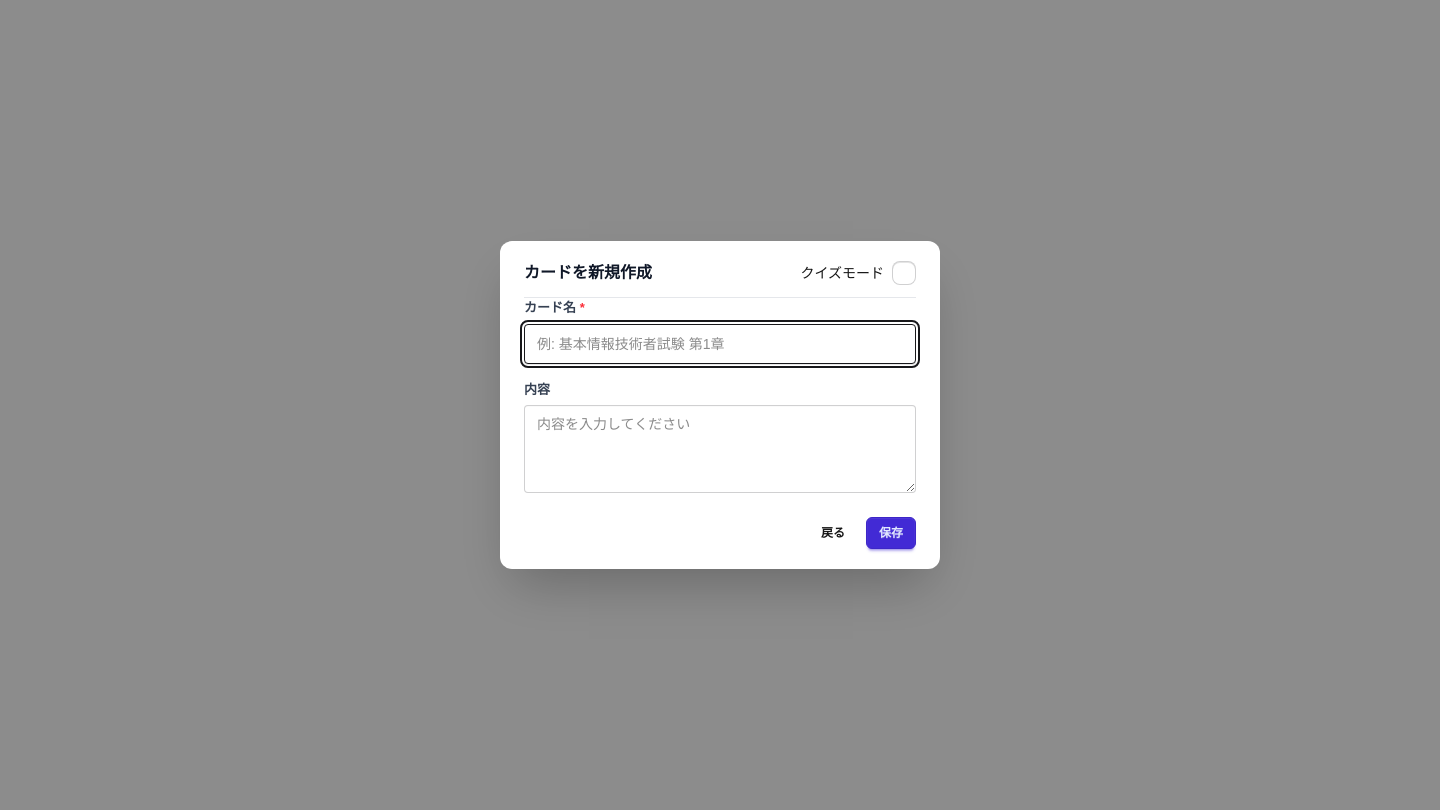
CardCreateModal › クイズモードにチェックを入れると Q/A フィールドが現れ content は消える
This screenshot has width=1440, height=810.
Note: チェックボックスをクリック
What coordinates should you click on to do the following:
click the checkbox
I would click on:
 (904, 273)
Its box is [892,261,916,285].
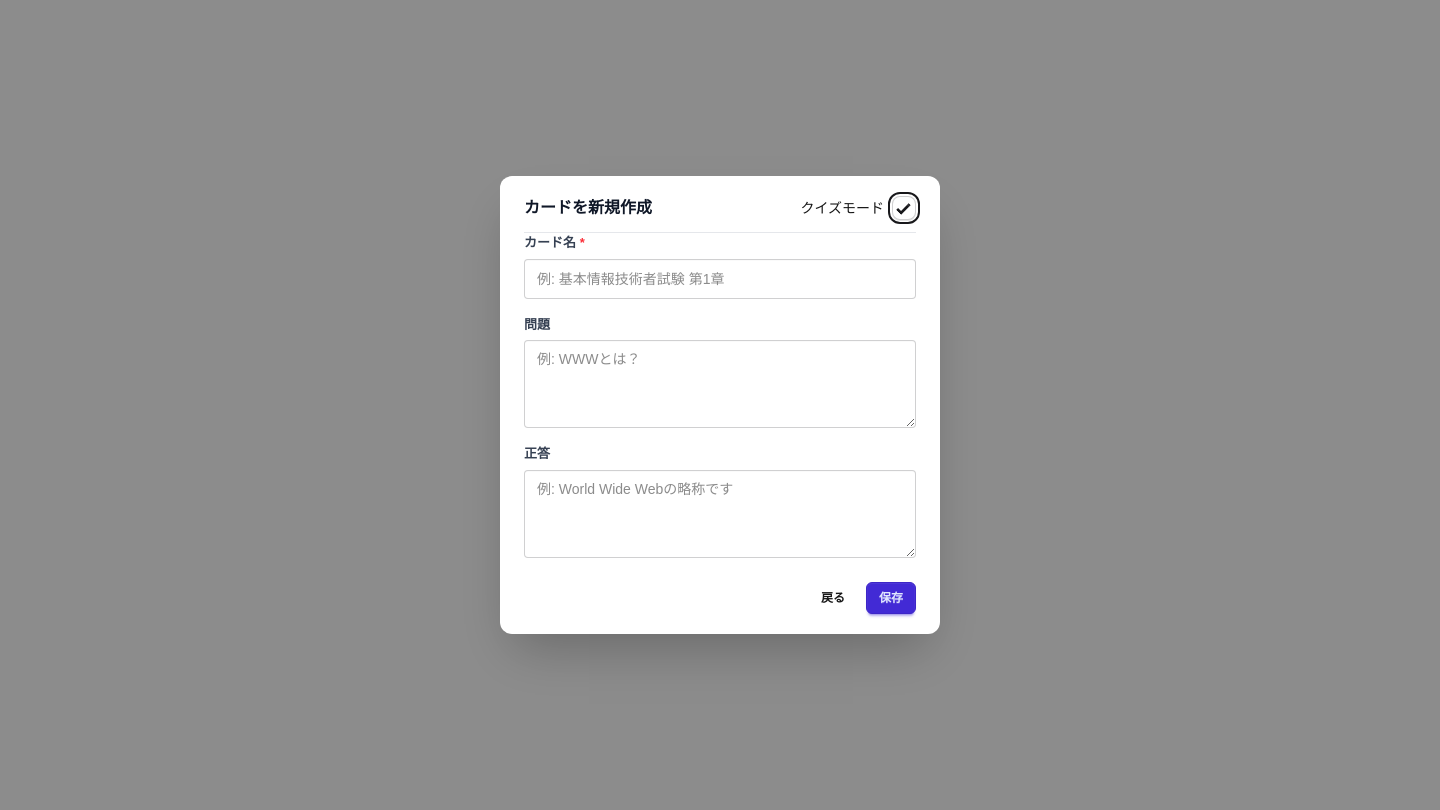
Expected: the text box with placeholder "例: WWWとは？" is shown, [524,340,916,428]
Expected: the text box with placeholder "例: World Wide Webの略称です" is shown, [524,470,916,558]
Expected: the text box with placeholder "内容を入力してください" is gone
